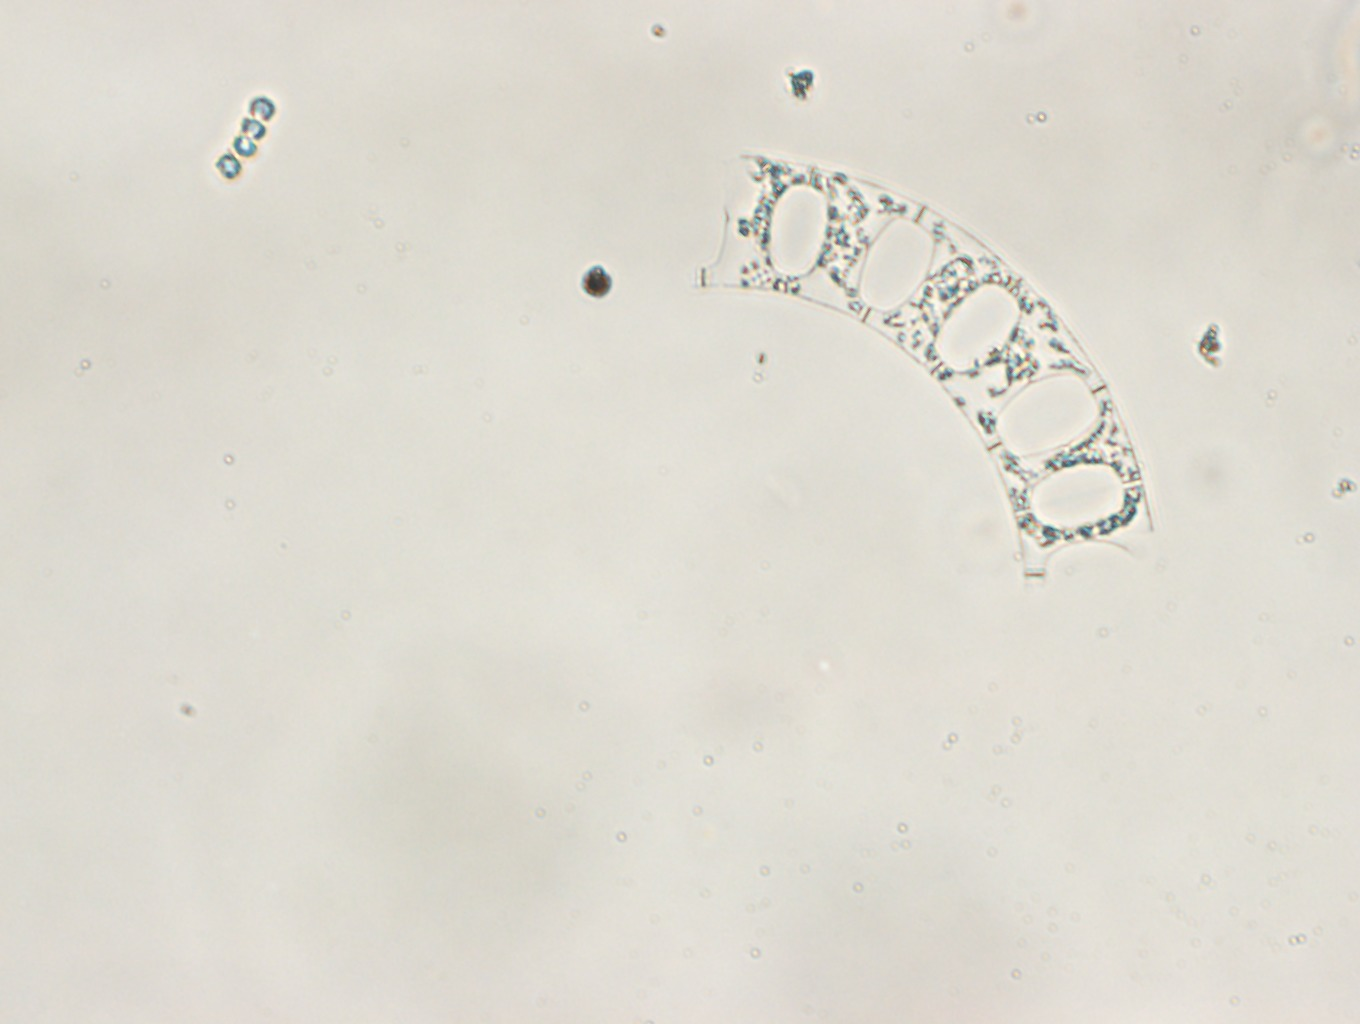eucampia: (693, 150, 1159, 581)
skeletonema: (214, 96, 277, 179)
